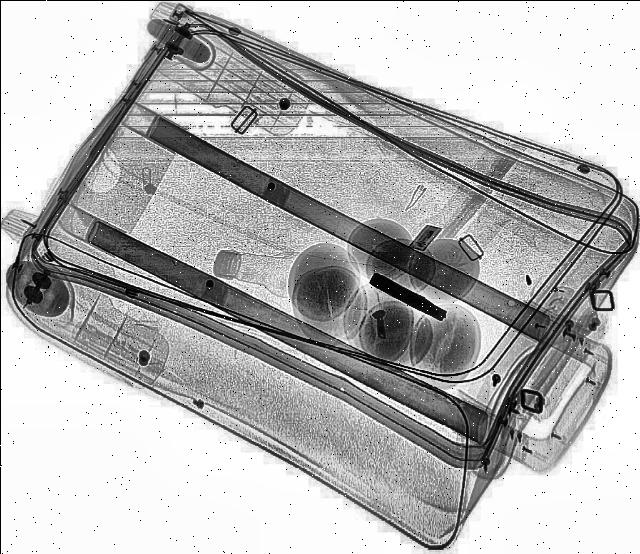Gun: (363, 272, 453, 324)
